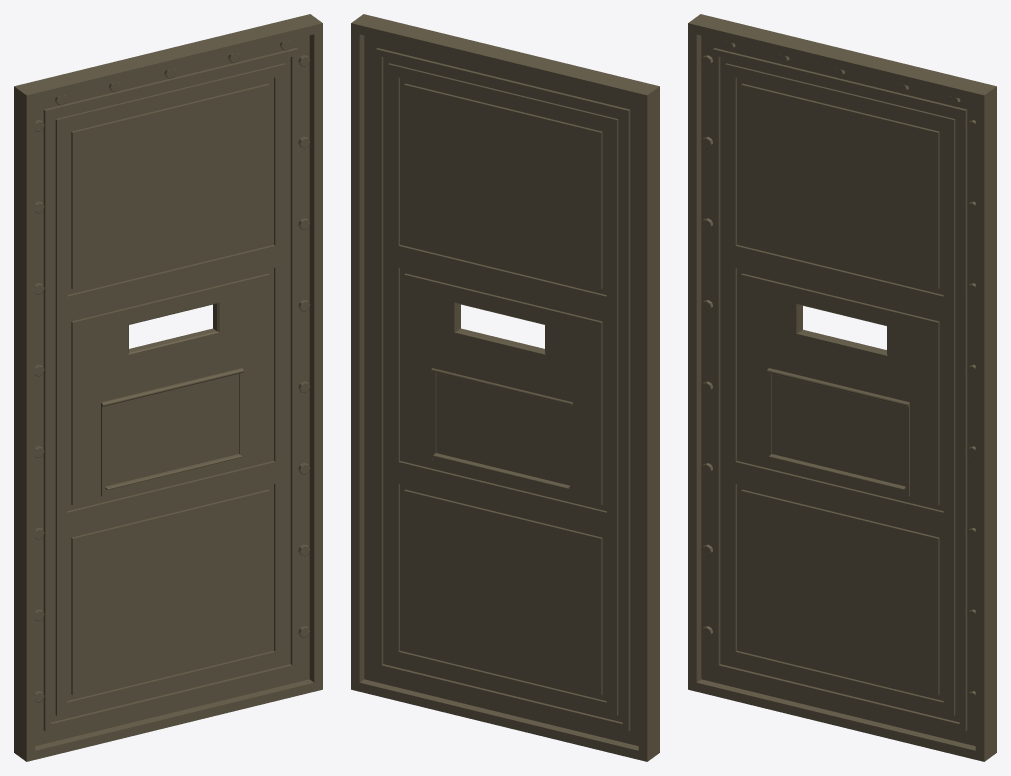
Rendered from Scarydoor.fbx.
The picture shows the model from 3 angles, left to right: view 1: azimuth 30°, elevation 25°; view 2: azimuth 150°, elevation 25°; view 3: azimuth 330°, elevation 25°; orthographic projection.
Parts seen in each view (by area): view 1: Door; view 2: Door; view 3: Door.
Boxes of the visible parts, left/top/right/bottom form: Door: left=14, top=14, right=322, bottom=761; Door: left=351, top=14, right=659, bottom=761; Door: left=688, top=14, right=996, bottom=761.
Size of the model in its own units: 0.9049 by 1.95 by 0.0665.
